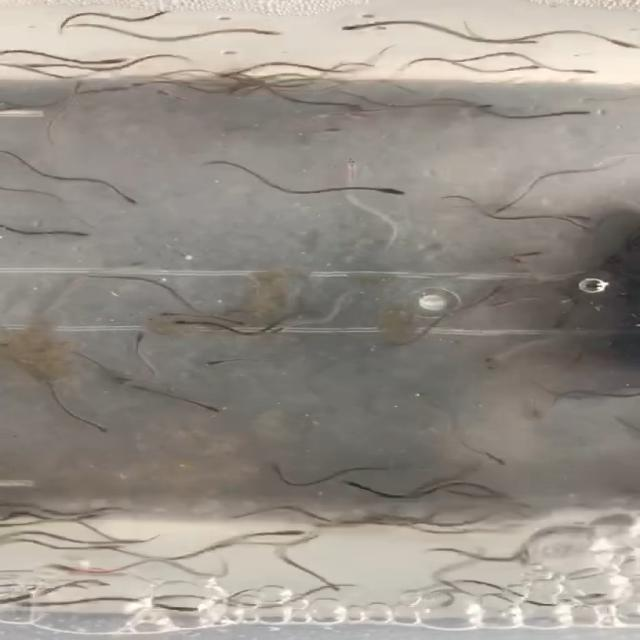active_glass_eel: (333, 19, 391, 35), (470, 351, 512, 371), (243, 23, 292, 40), (85, 54, 128, 70), (341, 100, 378, 118), (374, 182, 410, 199), (337, 157, 369, 176), (598, 38, 638, 53), (150, 3, 183, 21), (150, 89, 188, 104), (191, 402, 229, 417), (106, 191, 141, 207), (162, 601, 204, 614), (576, 586, 612, 601), (191, 357, 234, 369), (50, 229, 96, 240), (291, 532, 324, 547), (550, 309, 573, 330), (556, 108, 596, 120), (65, 77, 89, 97), (484, 283, 512, 300), (479, 452, 507, 469), (80, 577, 114, 591), (85, 422, 111, 440), (521, 404, 554, 418), (268, 528, 306, 540), (496, 198, 518, 218), (229, 80, 256, 96), (59, 567, 102, 577), (219, 66, 249, 80), (503, 256, 530, 270), (508, 62, 545, 72), (566, 212, 594, 225), (467, 98, 497, 110), (487, 300, 523, 310), (511, 247, 546, 257), (72, 510, 104, 520), (572, 65, 596, 78), (165, 320, 199, 329), (131, 327, 150, 343), (222, 316, 248, 327), (343, 479, 368, 490), (156, 310, 182, 320), (268, 462, 284, 476), (270, 323, 286, 335)
